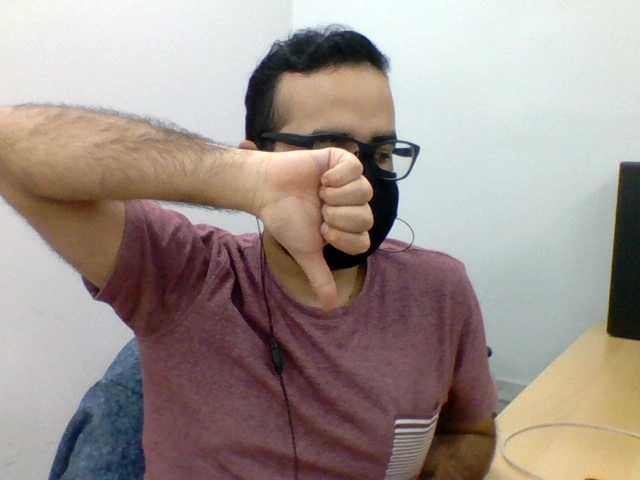ThumbsDown: (261, 146, 376, 313)
